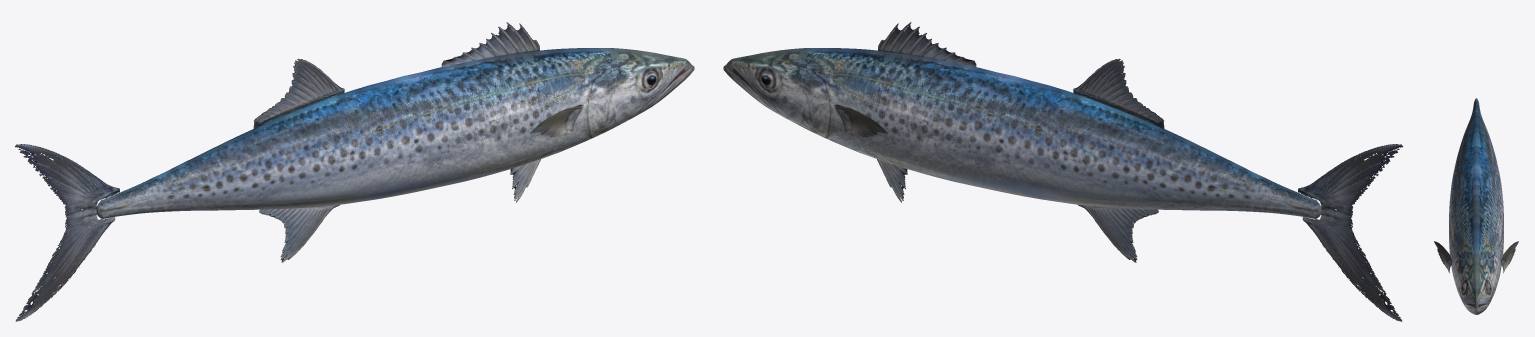
File: sawara.glb
The picture shows the model from 3 angles, left to right: view 1: azimuth 30°, elevation 25°; view 2: azimuth 150°, elevation 25°; view 3: azimuth 270°, elevation 25°; orthographic projection. The views are drawn at different scales.
Bounding box in the file's own units: 1 × 0.2829 × 0.1599.
1 material, 1 textured.
